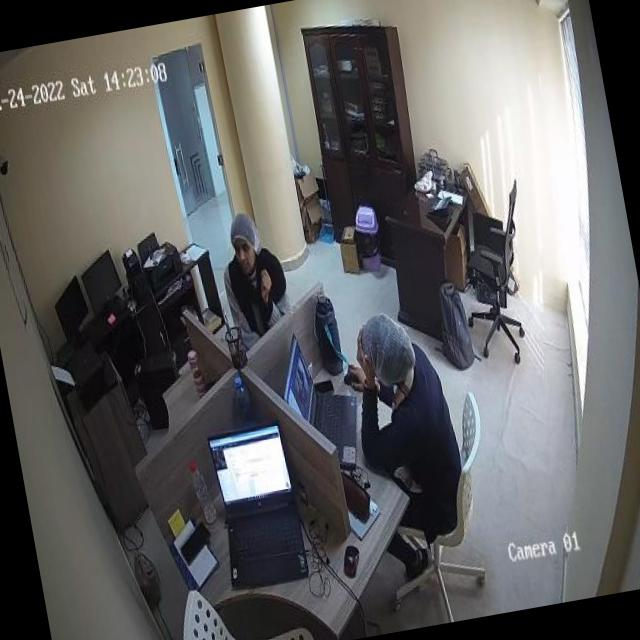hairnet: (358, 308, 418, 392), (225, 208, 261, 252)
